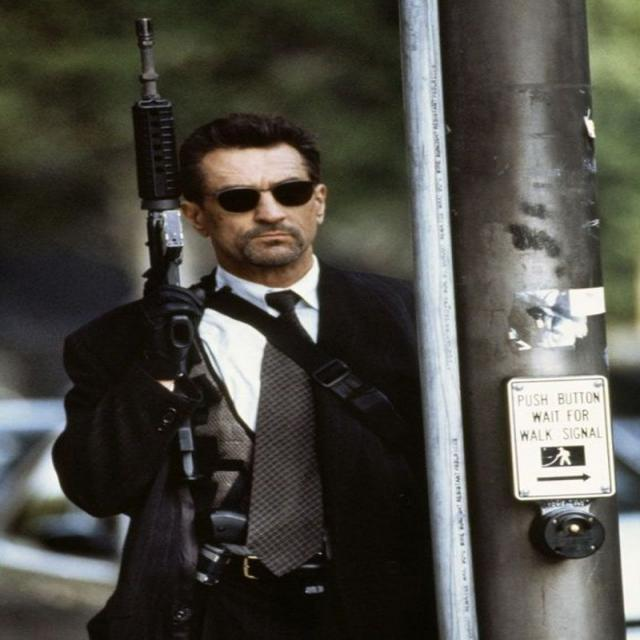m16: (90, 11, 274, 606)
